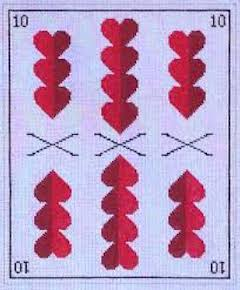TenOfHearts: (7, 8, 231, 282)
